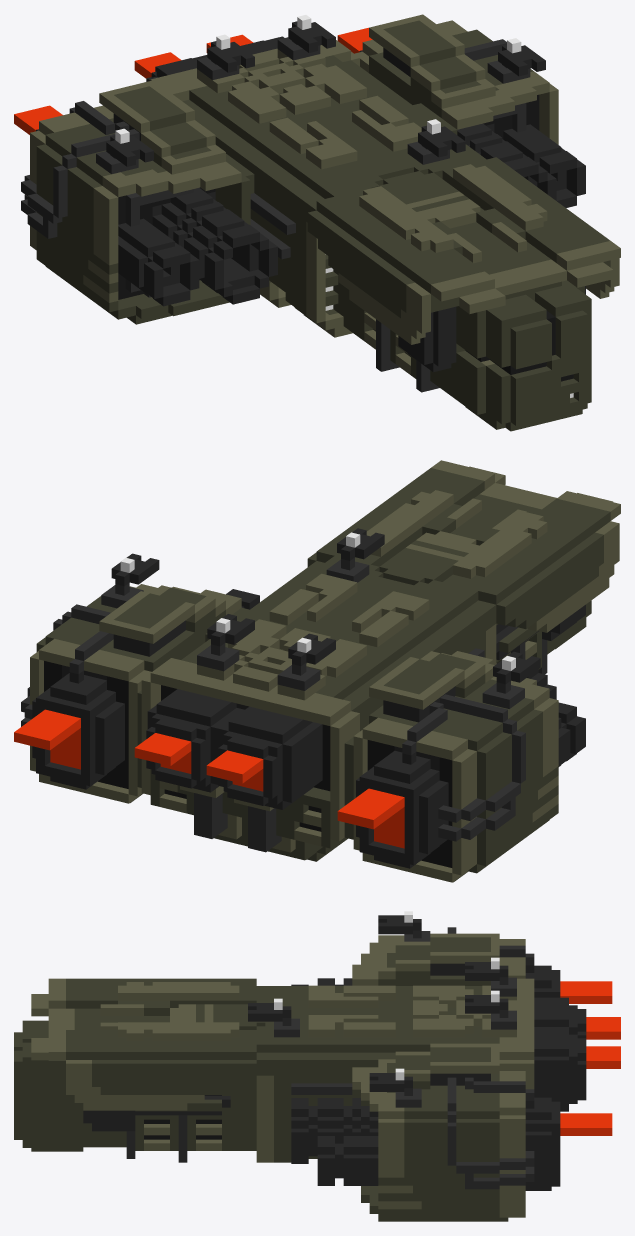
The model's file is Spaceship08.gltf.
3 views of the same model, one above another, from view 1: azimuth 30°, elevation 25°; view 2: azimuth 150°, elevation 25°; view 3: azimuth 270°, elevation 25° (orthographic). The views are drawn at different scales.
Parts seen in each view (by area): view 1: Untitled; view 2: Untitled; view 3: Untitled.
Part boxes in pixels (x1,y1,x2,y2): Untitled: (14, 14, 620, 431); Untitled: (14, 460, 620, 882); Untitled: (14, 911, 620, 1221).
Size of the model in its own units: 5.2 by 2.4 by 7.
1 material, 1 textured.
